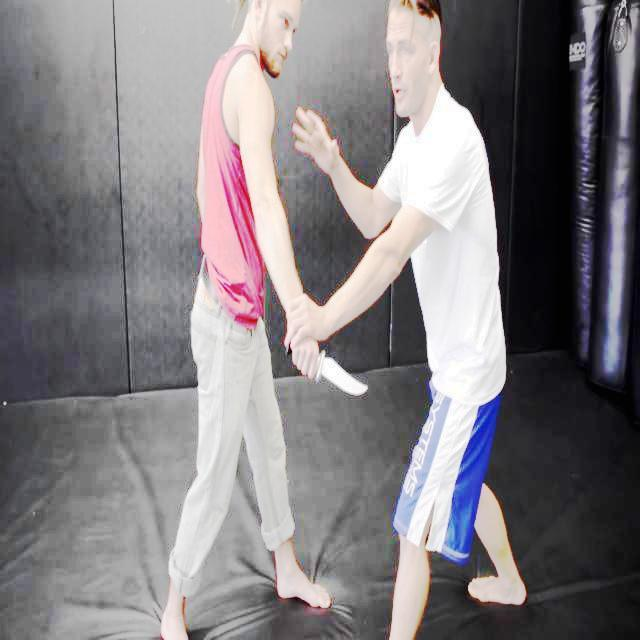Knife: (291, 348, 381, 404)
